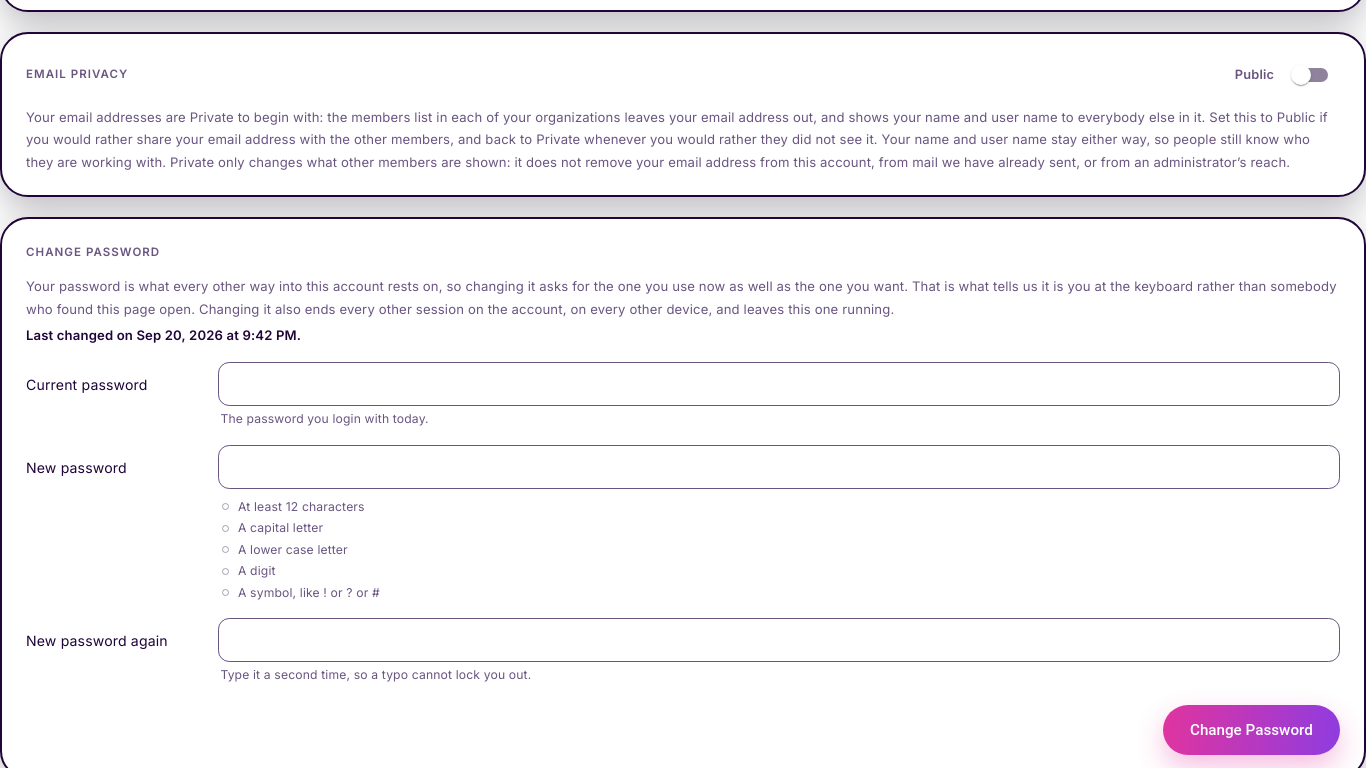
Test: the change-password card › says the password changed and what happened to the other sessions
The width and height of the screenshot is (1366, 768).
(page scrolled)
In the password field labelled "Current password": (779, 384) [218,362,1340,406], type "letmein"
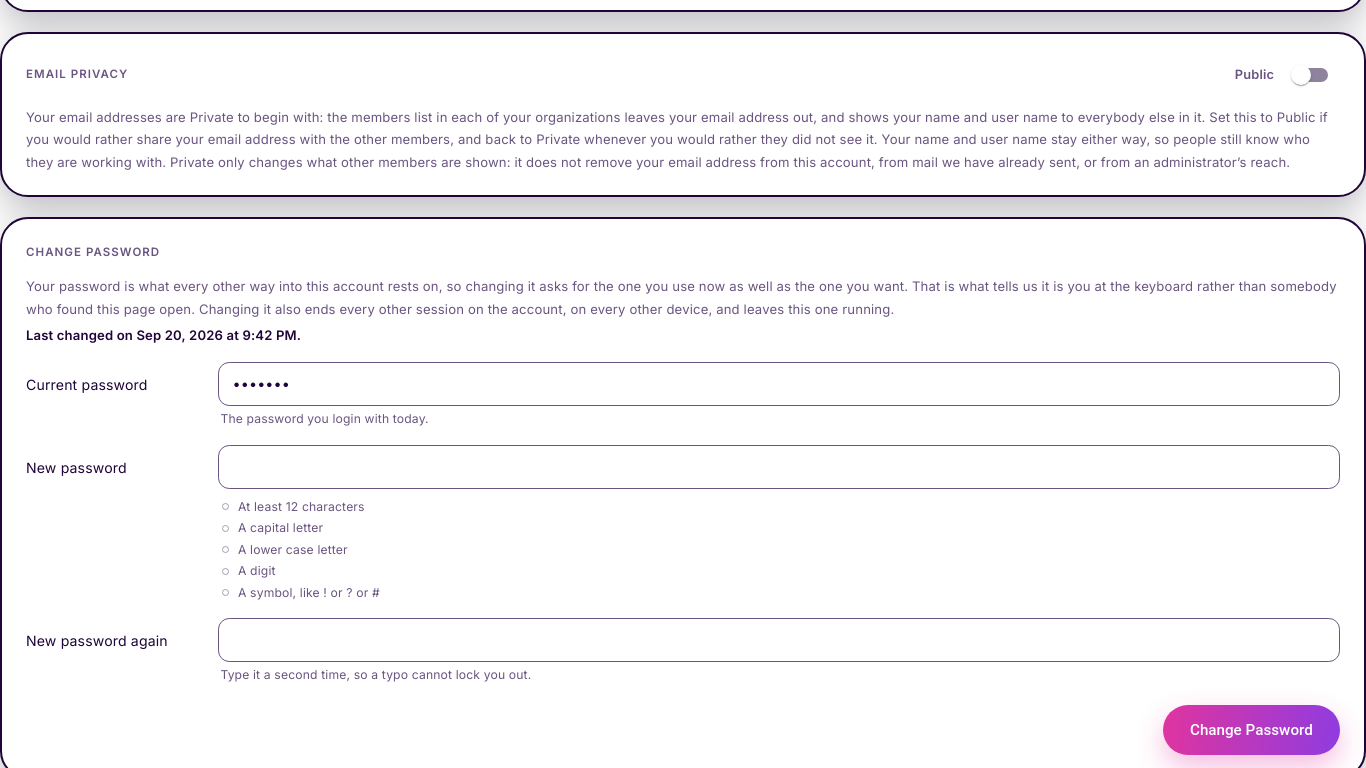
In the password field labelled "New password": (779, 467) [218,445,1340,489], type "Trombone-42-Fig"
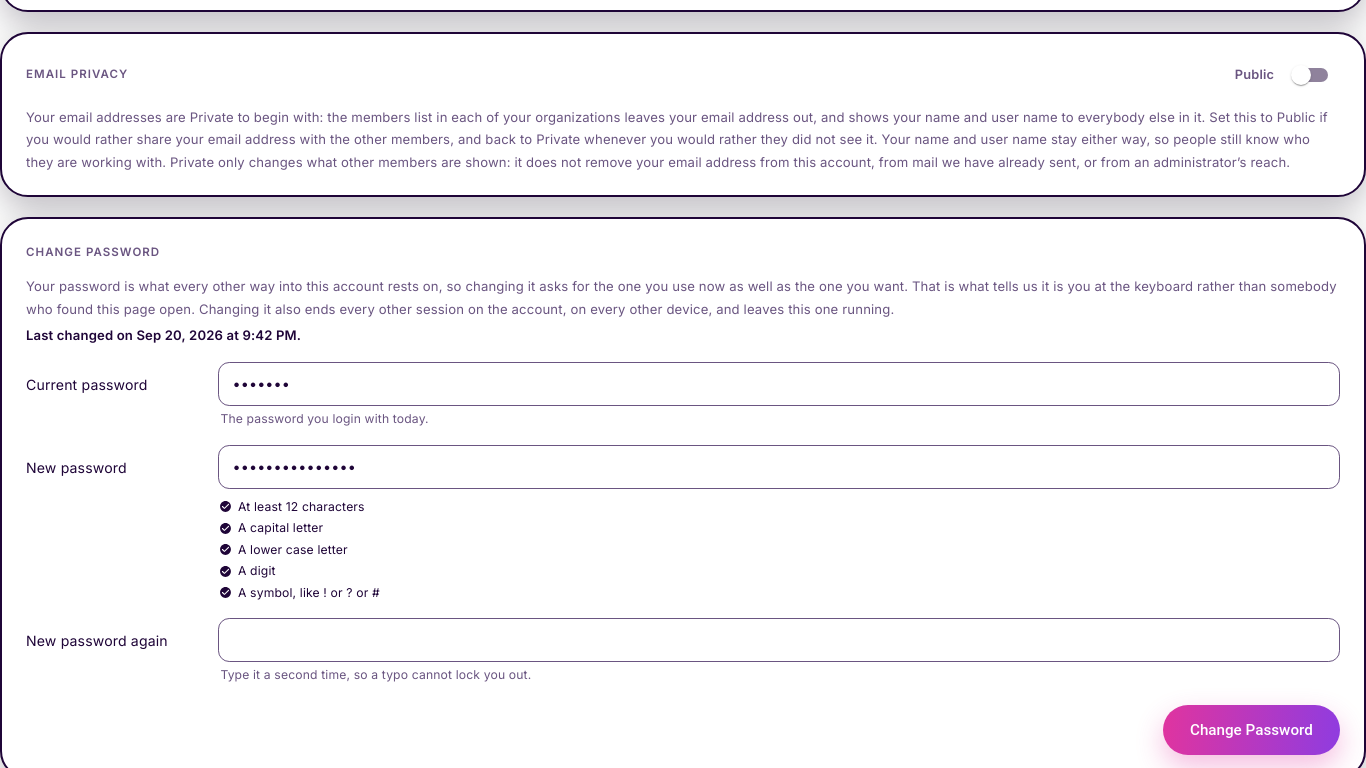
In the password field labelled "New password again": (779, 640) [218,618,1340,662], type "Trombone-42-Fig"
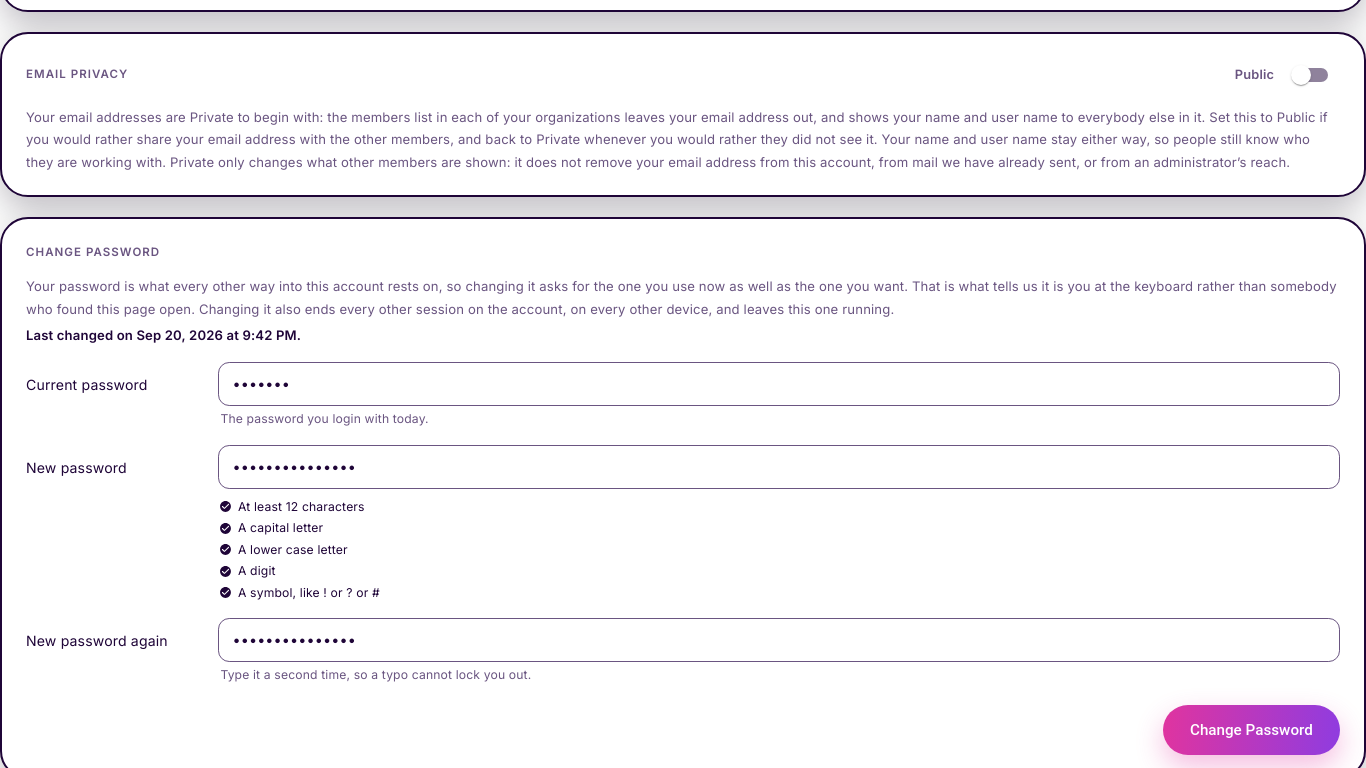
Click the button "Change Password": (1251, 730) [1163,705,1340,755]
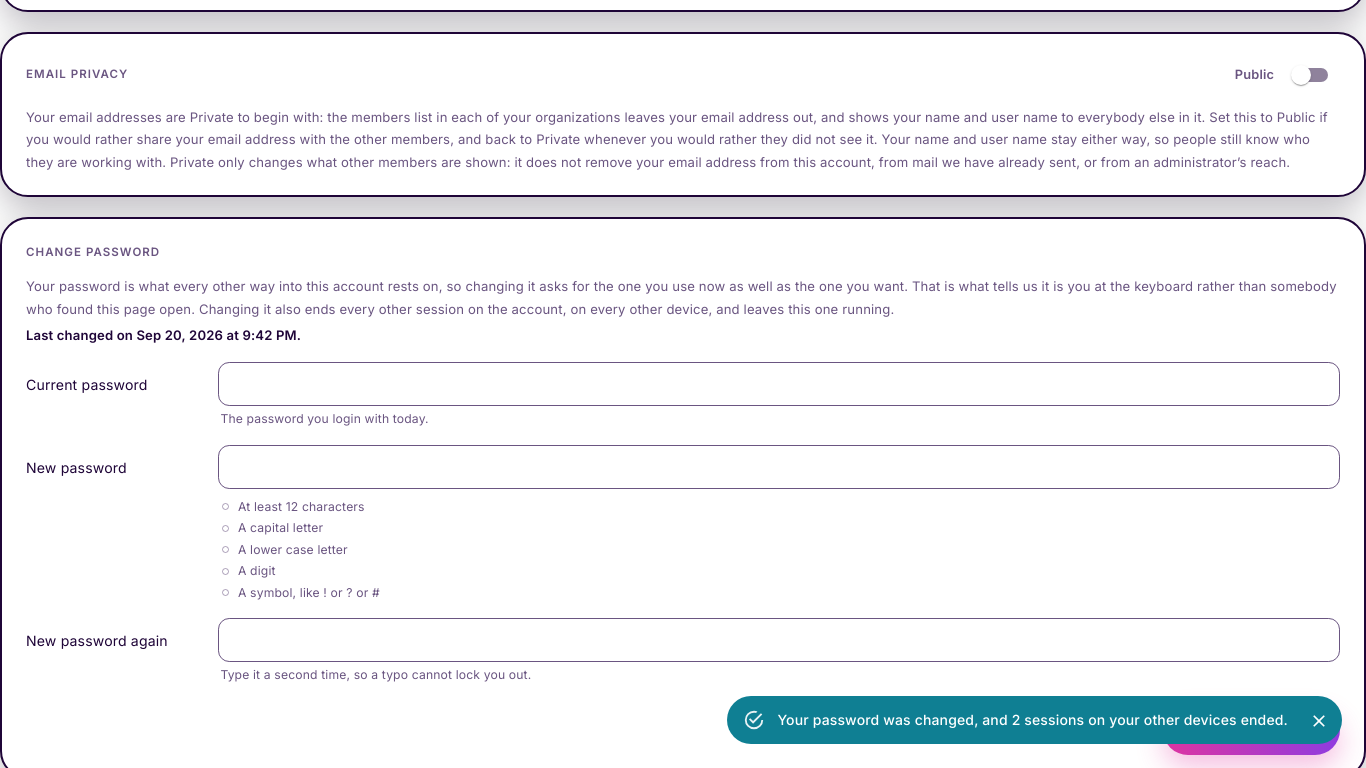
Check: the text "Your password was changed, and 2 sessions on your other devices ended." is shown, box [777,711,1288,728]
